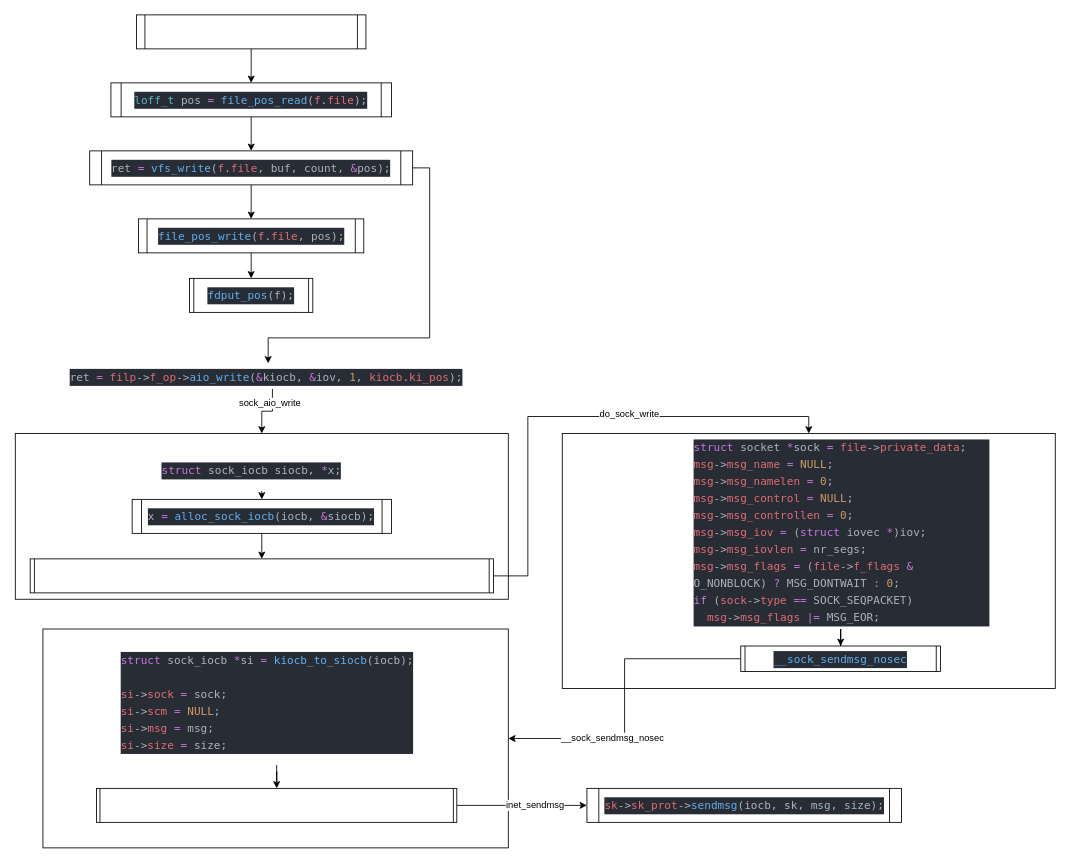
The diagram is 1070 pixels wide and 863 high, and some of its shapes have lost their labels. Each missing label, with the centre of its shape:
"do_sock_write ( & x -> async_msg , iocb, iocb -> ki_filp , iov, nr_segs);" belongs at point (261, 575).
"sock -> ops -> sendmsg (iocb, sock, msg, size);" belongs at point (276, 805).
"struct fd f = fdget_pos (fd);" belongs at point (251, 31).
